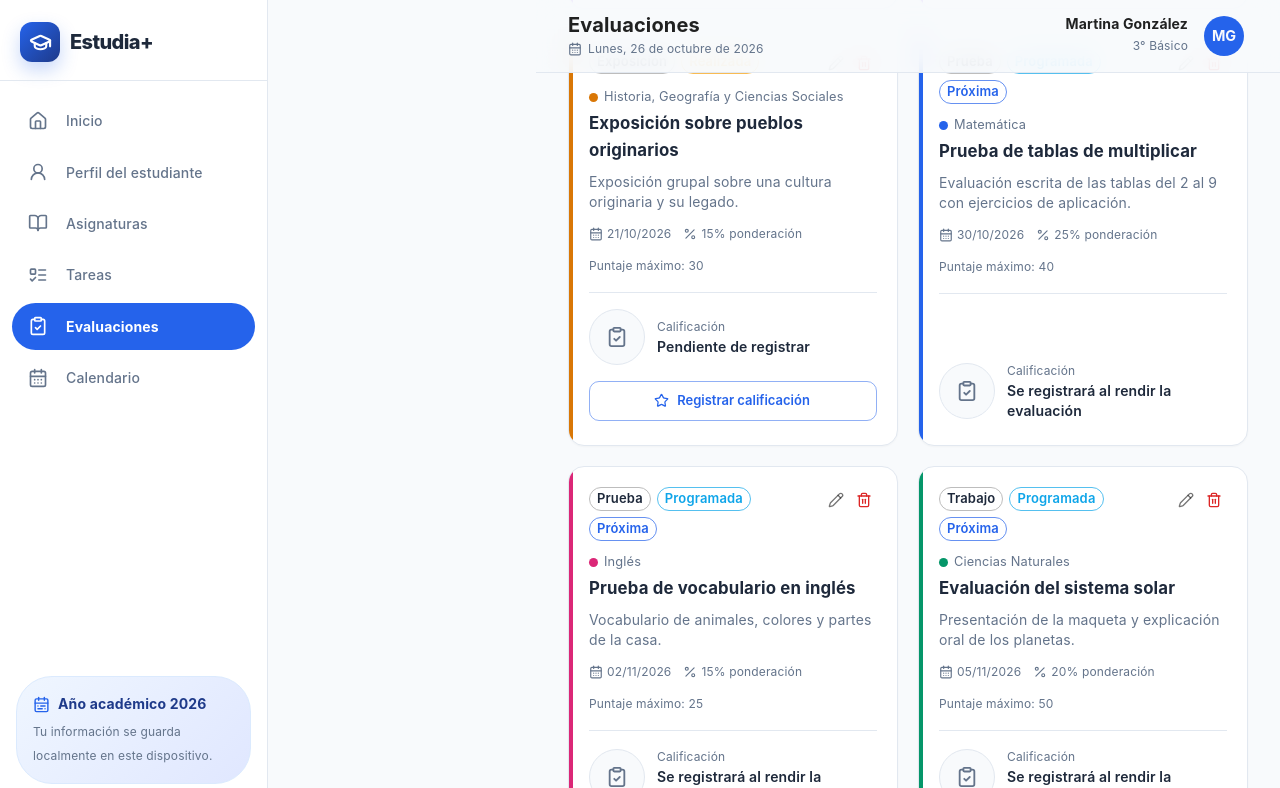
Test: gestión de evaluaciones › registra una calificación y actualiza el estado y el promedio
(page scrolled)
Click the button "Registrar calificación" at {"x": 733, "y": 401}, box 589,381 -> 877,421
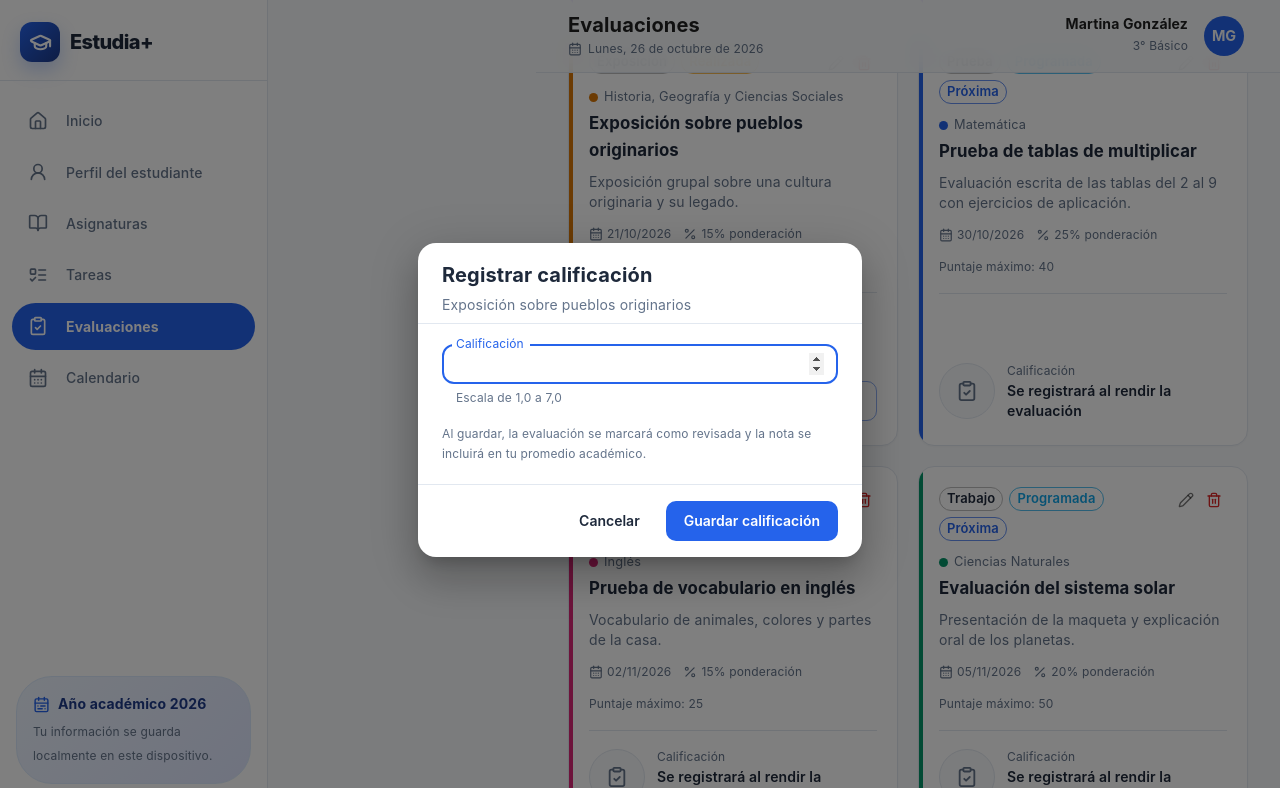
Type "8" into the number field labelled "Calificación" at {"x": 640, "y": 364}, box 442,344 -> 838,384
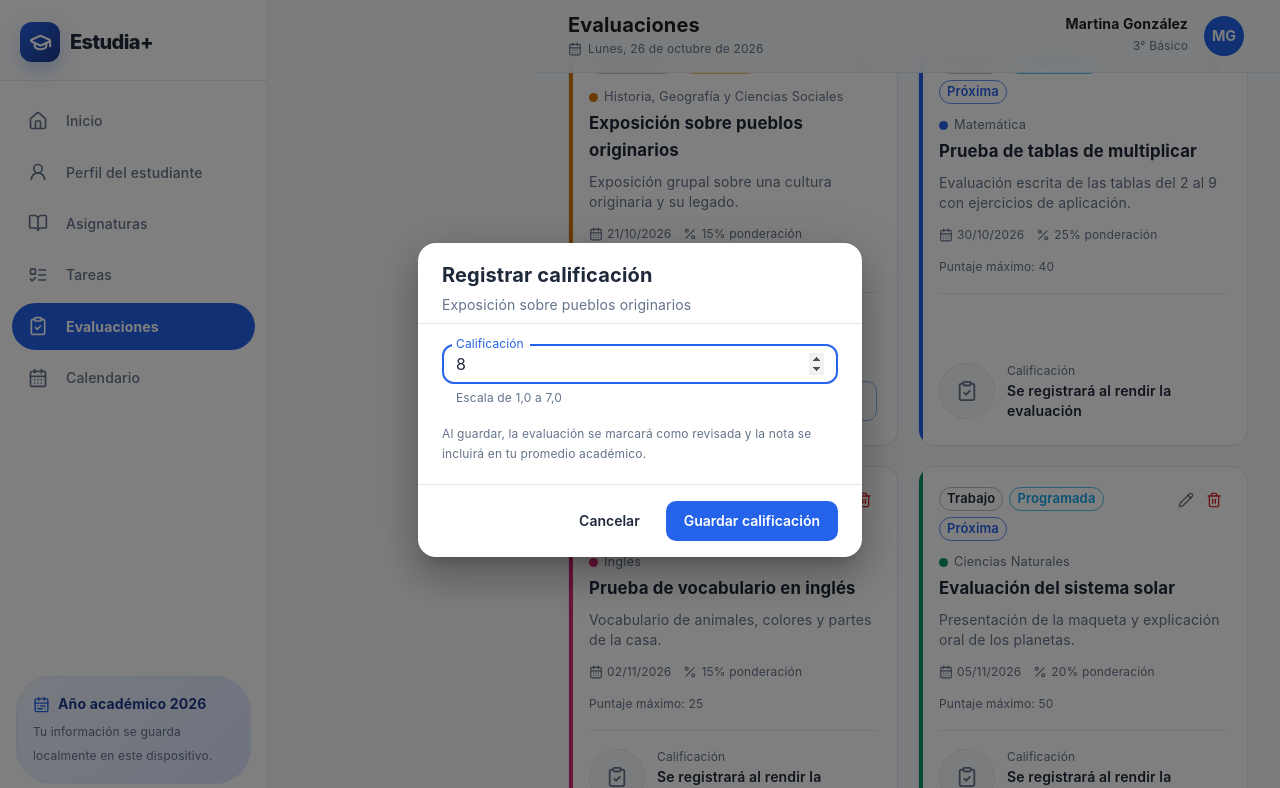
Click the button "Guardar calificación" at {"x": 752, "y": 521}, box 666,501 -> 838,541
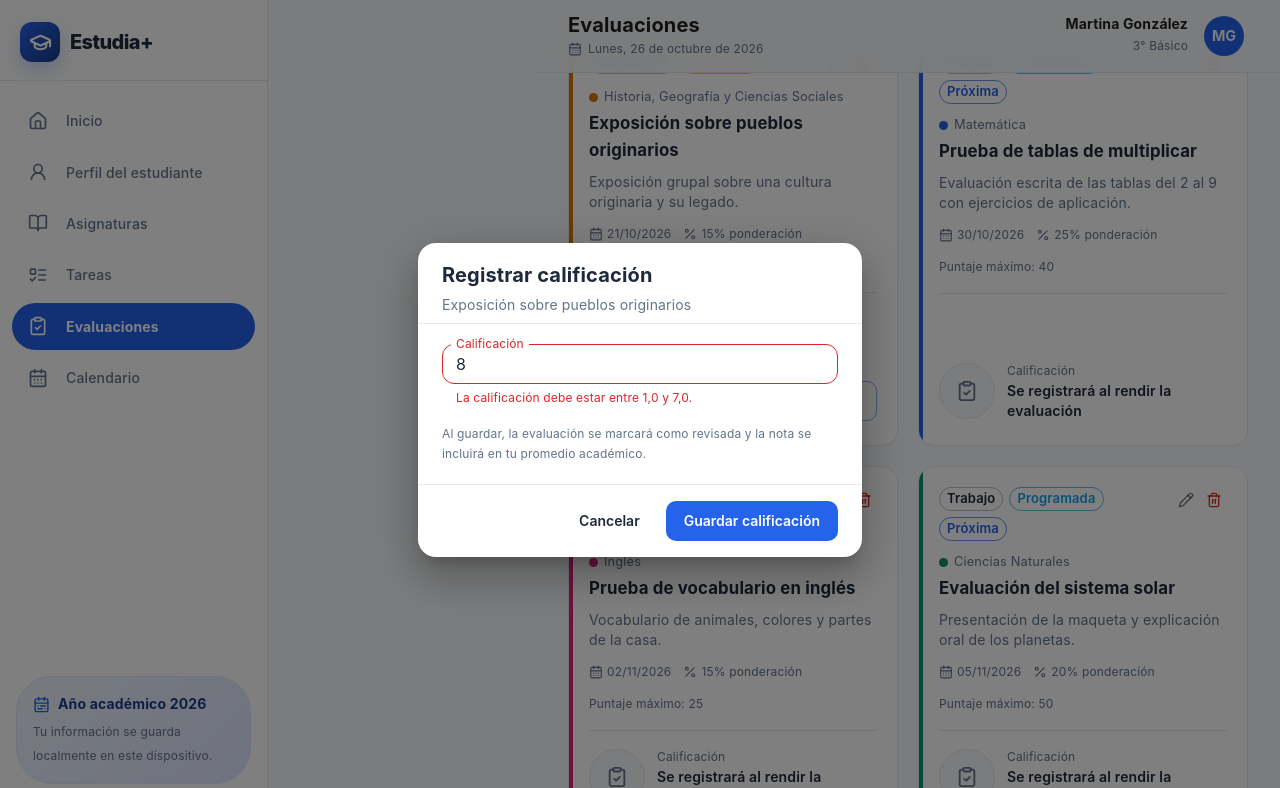
Expected: the text "La calificación debe estar entre 1,0 y 7,0." is shown, 456,390 -> 692,405
Replace the text in the number field labelled "Calificación" with "5.9" at {"x": 640, "y": 364}, box 442,344 -> 838,384
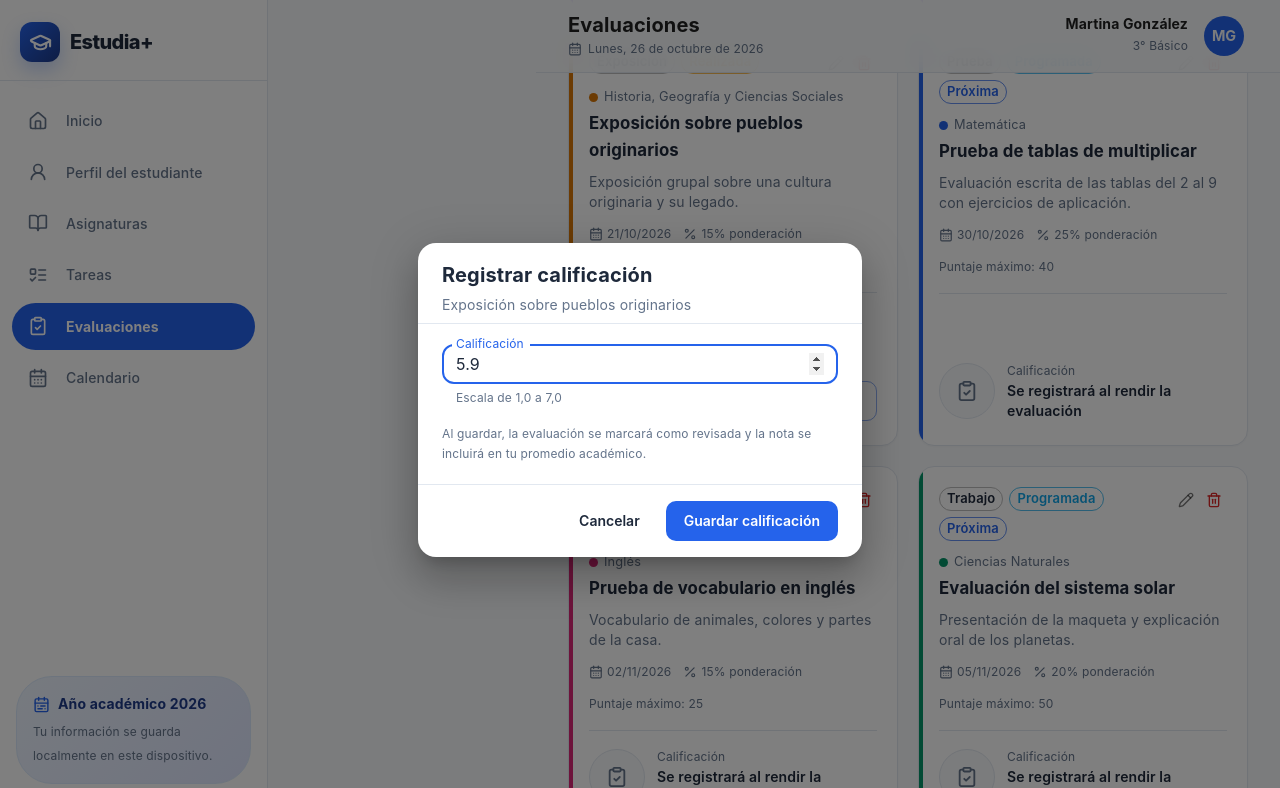
Click the button "Guardar calificación" at {"x": 752, "y": 521}, box 666,501 -> 838,541
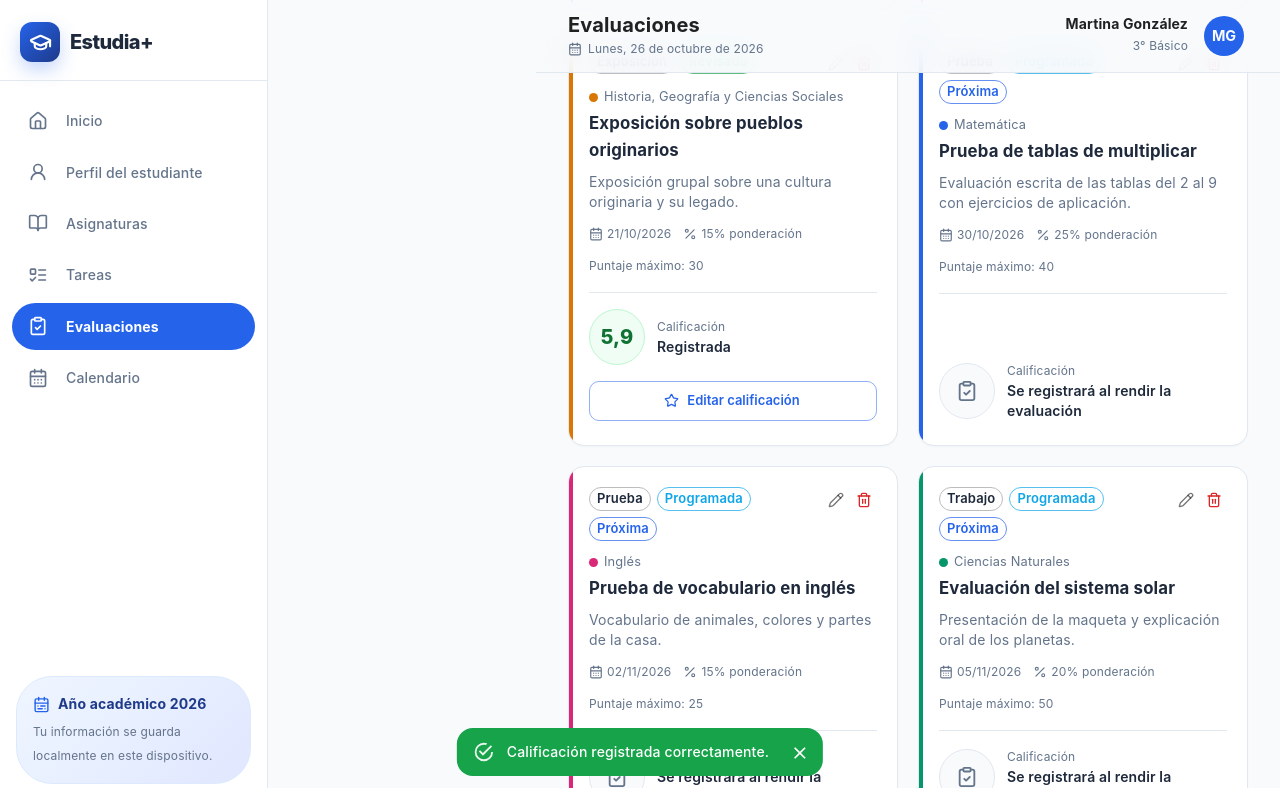
Expected: the heading "5,9" is shown, 601,321 -> 633,353
